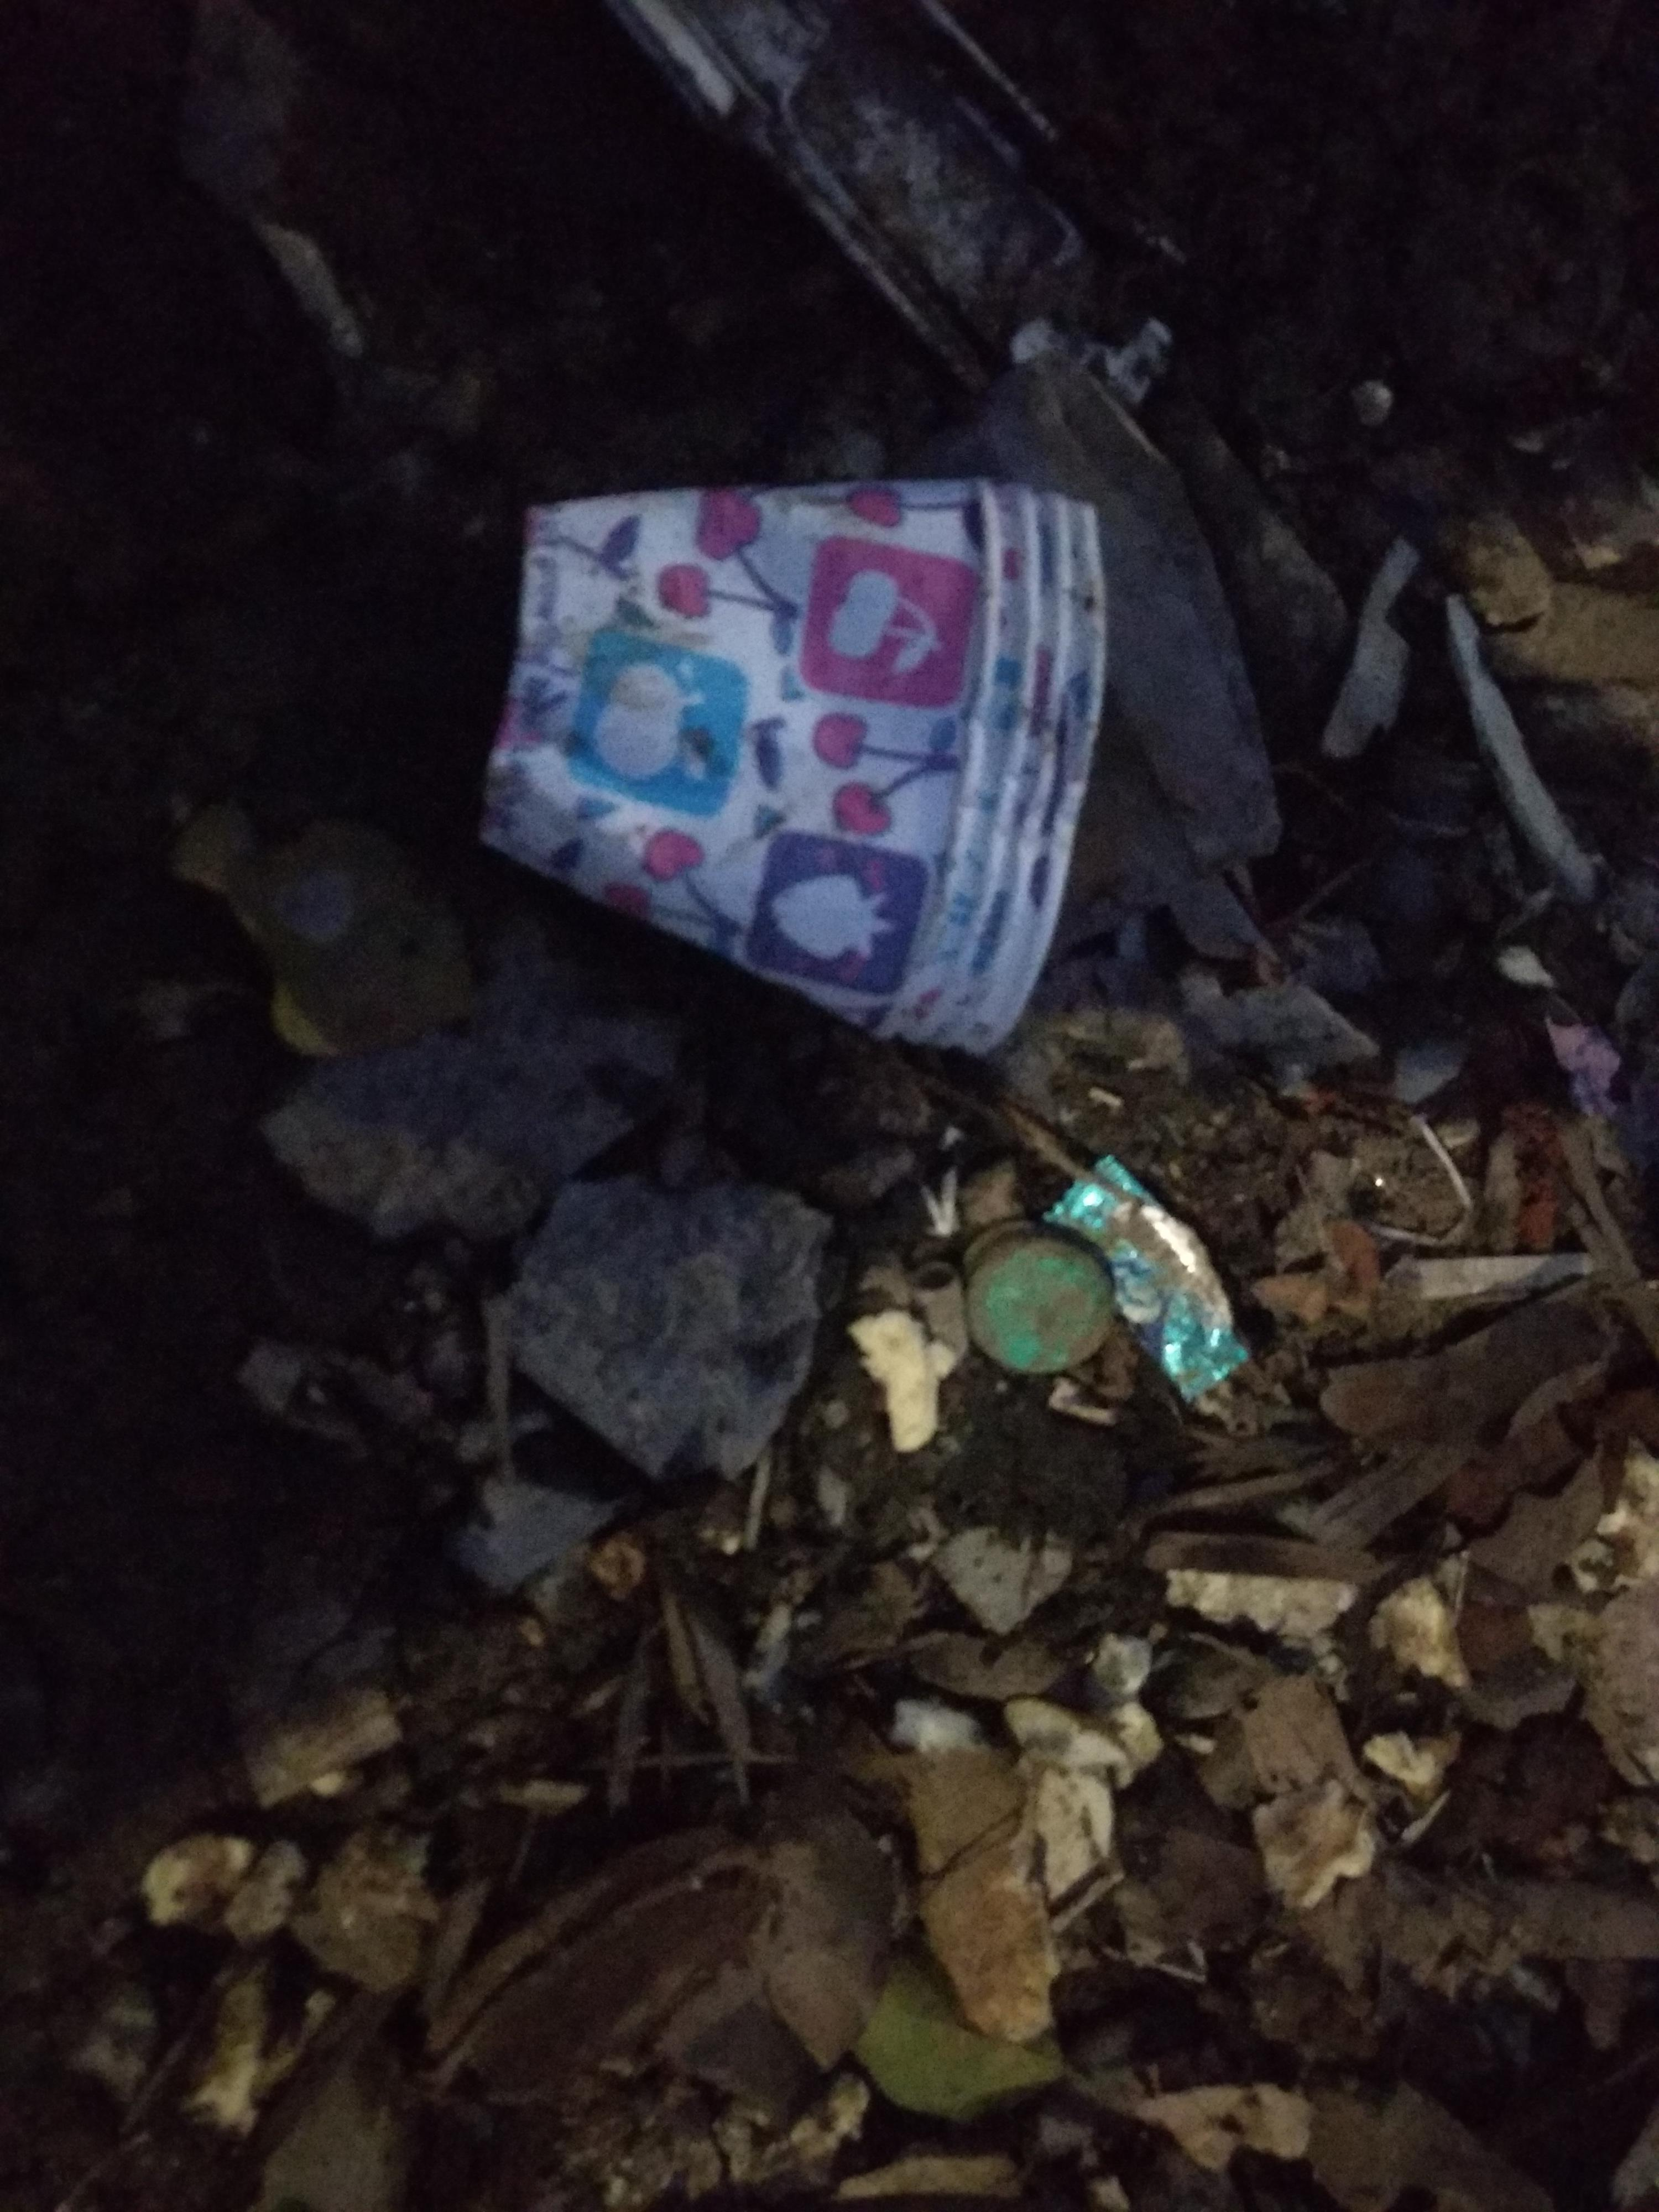trash: (460, 449, 1124, 1076)
